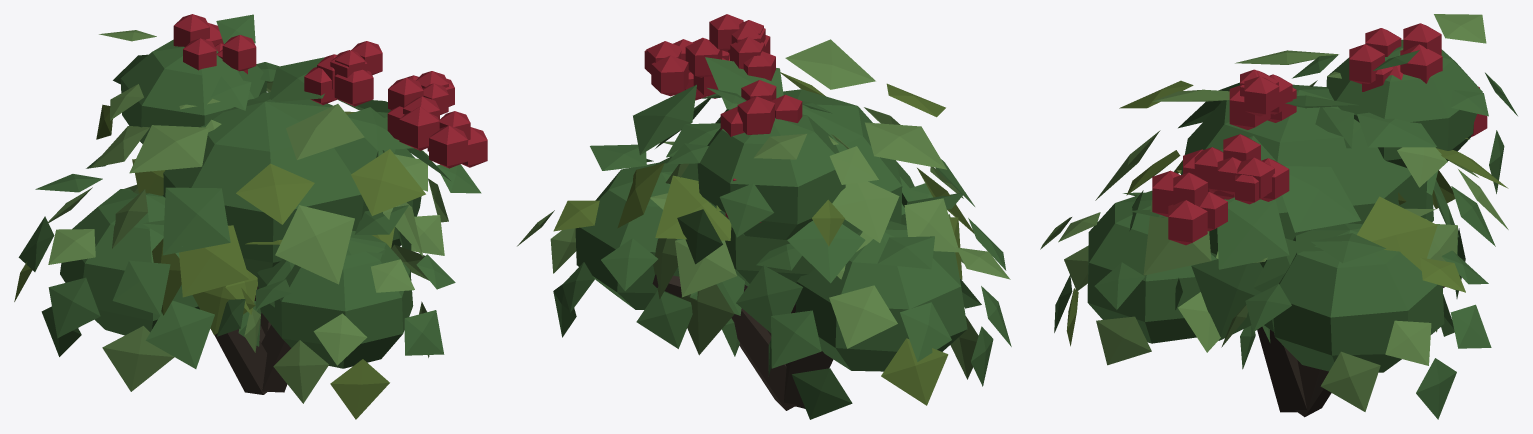
File: bush_berry.glb
3 renders of one model, left to right at view 1: azimuth 30°, elevation 25°; view 2: azimuth 150°, elevation 25°; view 3: azimuth 270°, elevation 25°, orthographic. The views are drawn at different scales.
Visible parts, largest first — view 1: BushBerry; view 2: BushBerry; view 3: BushBerry.
Part boxes in pixels (left/top/right/bottom): BushBerry: left=14, top=14, right=487, bottom=419; BushBerry: left=517, top=14, right=1011, bottom=419; BushBerry: left=1040, top=14, right=1517, bottom=419.
Size of the model in its own units: 0.6369 by 0.4922 by 0.5651.
